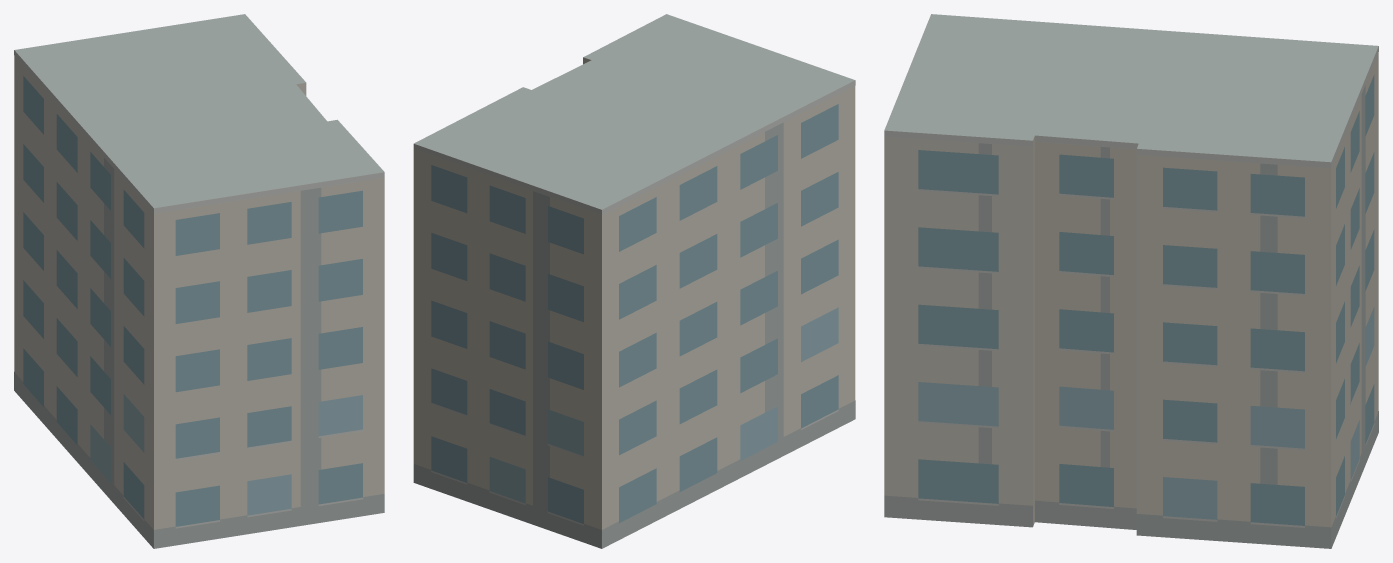
Rendered from survey-upis-32646816.glb.
The picture shows the model from 3 angles, left to right: view 1: azimuth 30°, elevation 25°; view 2: azimuth 150°, elevation 25°; view 3: azimuth 270°, elevation 25°; orthographic projection. The views are drawn at different scales.
Parts seen in each view (by area): view 1: survey-upis-32646816.tmp; view 2: survey-upis-32646816.tmp; view 3: survey-upis-32646816.tmp.
Boxes of the visible parts, bbox=[...] form: survey-upis-32646816.tmp: bbox=[14, 14, 384, 548]; survey-upis-32646816.tmp: bbox=[413, 14, 855, 548]; survey-upis-32646816.tmp: bbox=[884, 14, 1378, 548].
Bounding box in the file's own units: 12.55 × 15.25 × 17.69.
